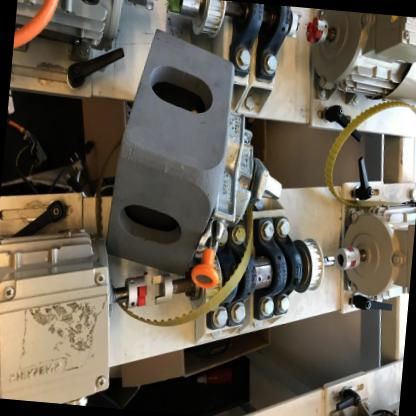CornerCasting: (98, 41, 236, 289)
Twistlock: (192, 96, 294, 306)
